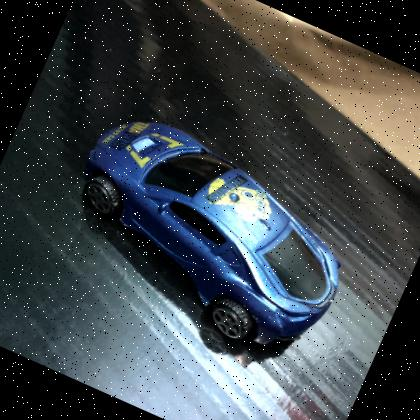Car: (82, 122, 341, 347)
